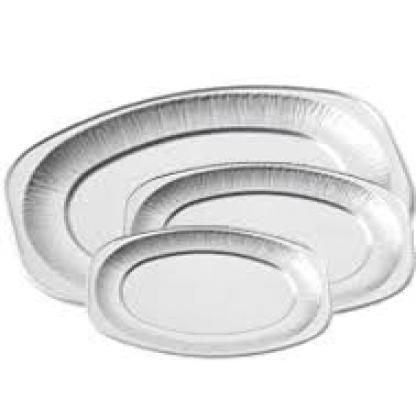Compsot: (2, 83, 414, 304), (119, 158, 414, 310), (86, 223, 330, 355)
